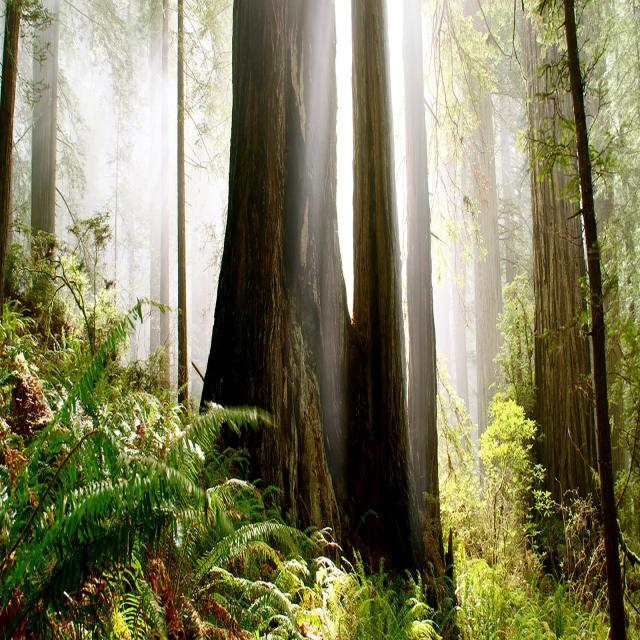Sequoia sempervirens: (203, 0, 353, 536), (528, 0, 624, 515), (344, 0, 409, 584)
